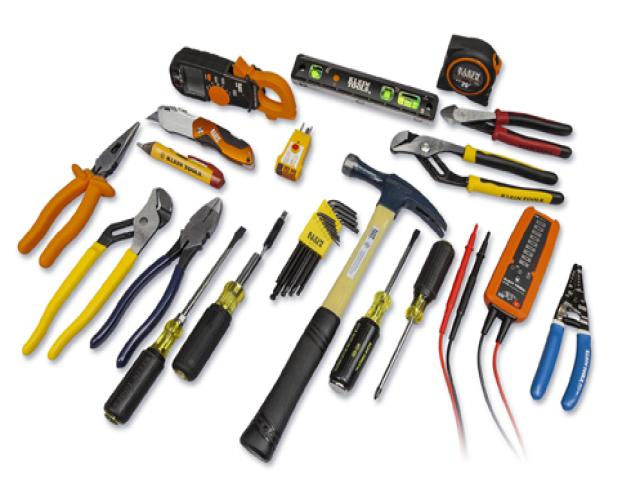Cutting pliers: (441, 106, 572, 157)
Gas wrench: (22, 189, 172, 361), (390, 131, 564, 203)
Hammer: (240, 155, 446, 461)
Needle-nose pliers: (18, 122, 138, 267)
Pliers: (91, 197, 222, 367)
Screwdriver: (105, 226, 245, 423), (174, 211, 286, 381), (329, 229, 420, 393), (374, 241, 454, 398)
Tape measure: (438, 35, 501, 105)
